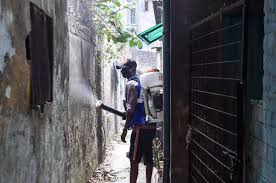mask: (121, 60, 136, 76)
